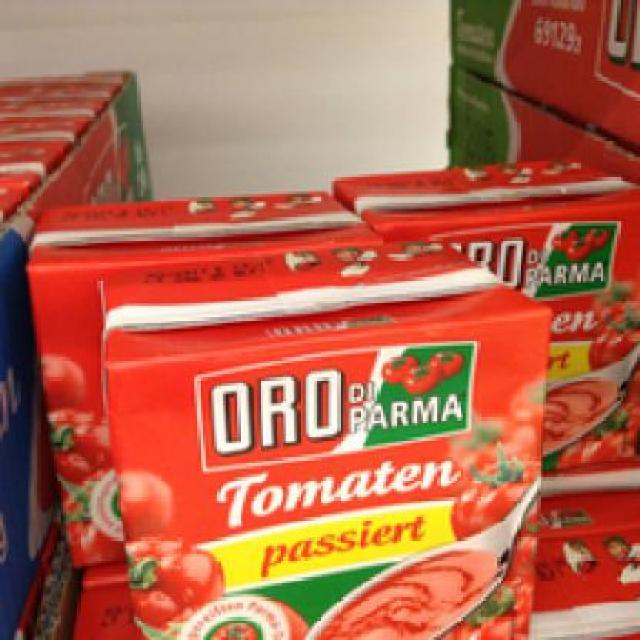Tomato Sauce: (94, 240, 552, 637)
